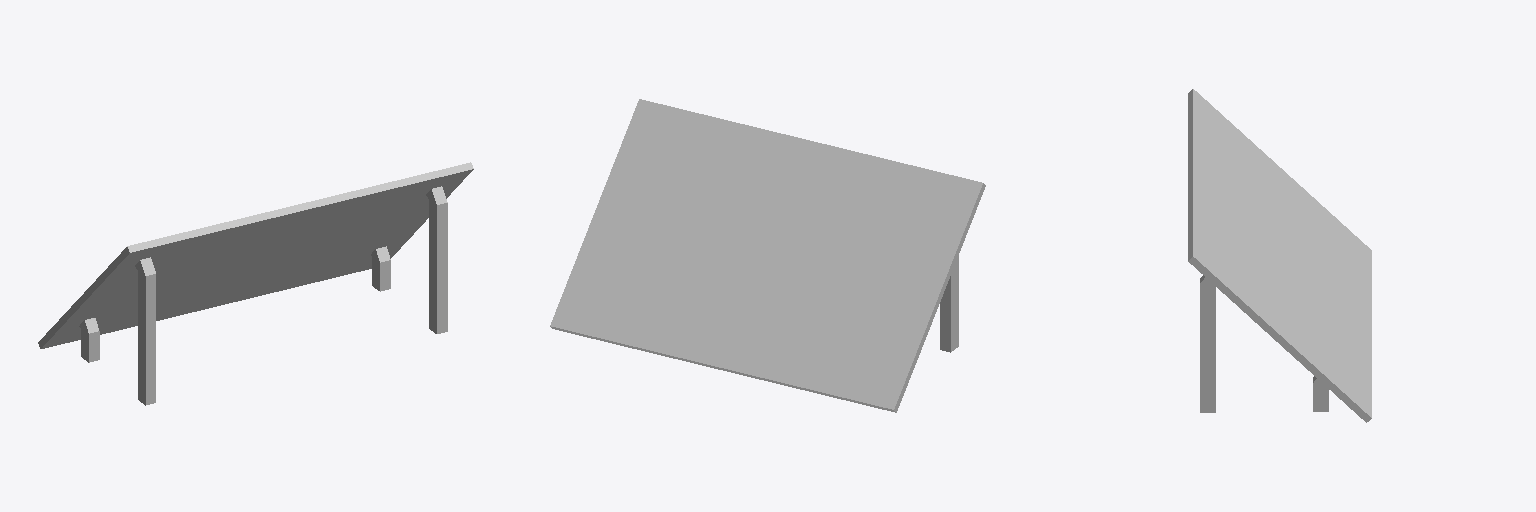
Rendered from solarpanelfarbe.obj.
The picture shows the model from 3 angles: view 1: azimuth 30°, elevation 25°; view 2: azimuth 150°, elevation 25°; view 3: azimuth 270°, elevation 25°; orthographic projection.
Visible parts, largest first — view 1: Cube; view 2: Cube; view 3: Cube.
Boxes of the visible parts, x1=… form: Cube: x1=38, y1=162, x2=473, y2=405; Cube: x1=550, y1=99, x2=985, y2=412; Cube: x1=1188, y1=89, x2=1371, y2=422.
Size of the model in its own units: 0.6431 by 0.2982 by 0.2978.